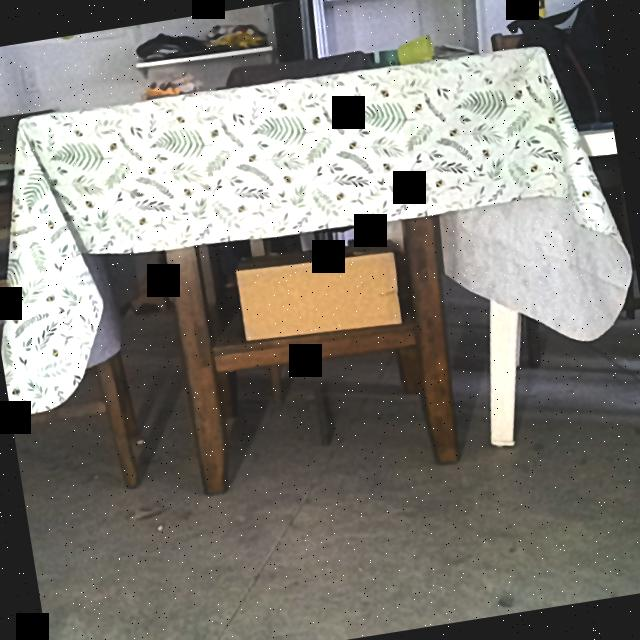box: (236, 248, 404, 346)
